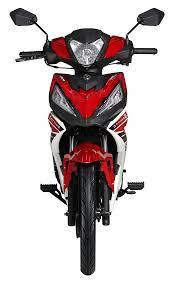Motorcycle: (4, 5, 170, 278)
